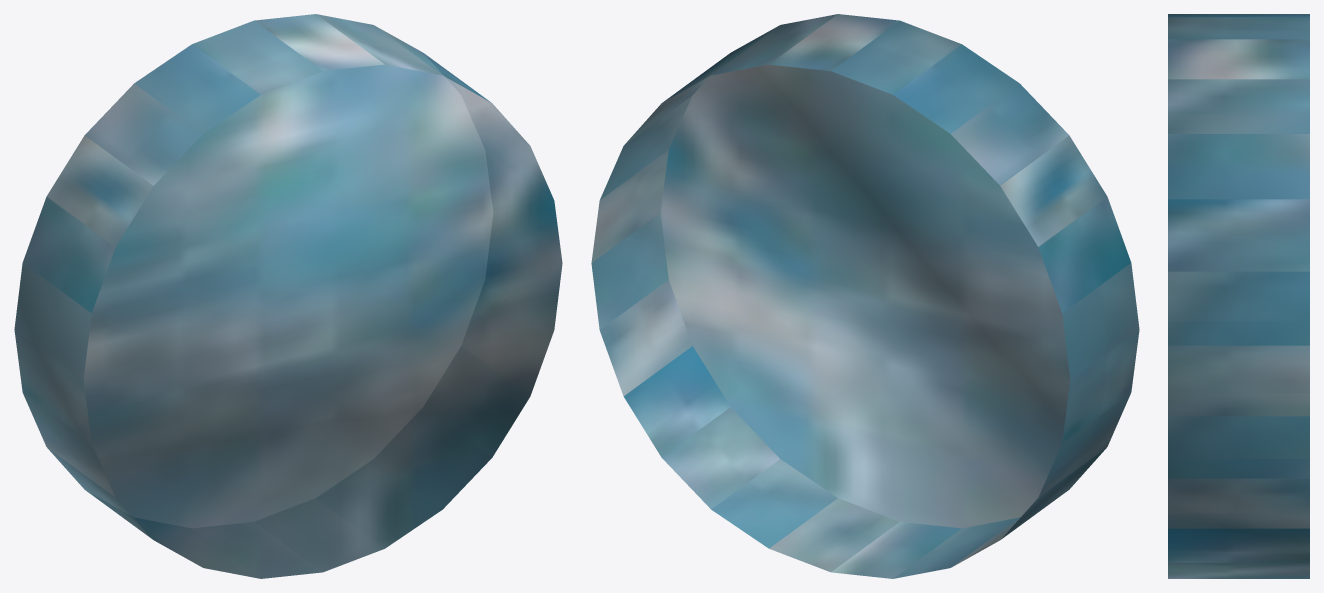
The model's file is original-4.obj.
3 views of the same model, side by side, from view 1: azimuth 30°, elevation 25°; view 2: azimuth 150°, elevation 25°; view 3: azimuth 270°, elevation 25° (orthographic). The views are drawn at different scales.
Parts seen in each view (by area): view 1: mesh2/mesh2-geometry#mesh2-geometry; view 2: mesh2/mesh2-geometry#mesh2-geometry; view 3: mesh2/mesh2-geometry#mesh2-geometry.
Part boxes in pixels (<box>): mesh2/mesh2-geometry#mesh2-geometry: <box>14,14,562,578</box>; mesh2/mesh2-geometry#mesh2-geometry: <box>591,14,1139,578</box>; mesh2/mesh2-geometry#mesh2-geometry: <box>1168,14,1309,578</box>.
Bounding box in the file's own units: 0.0212 × 0.0212 × 0.0053.
